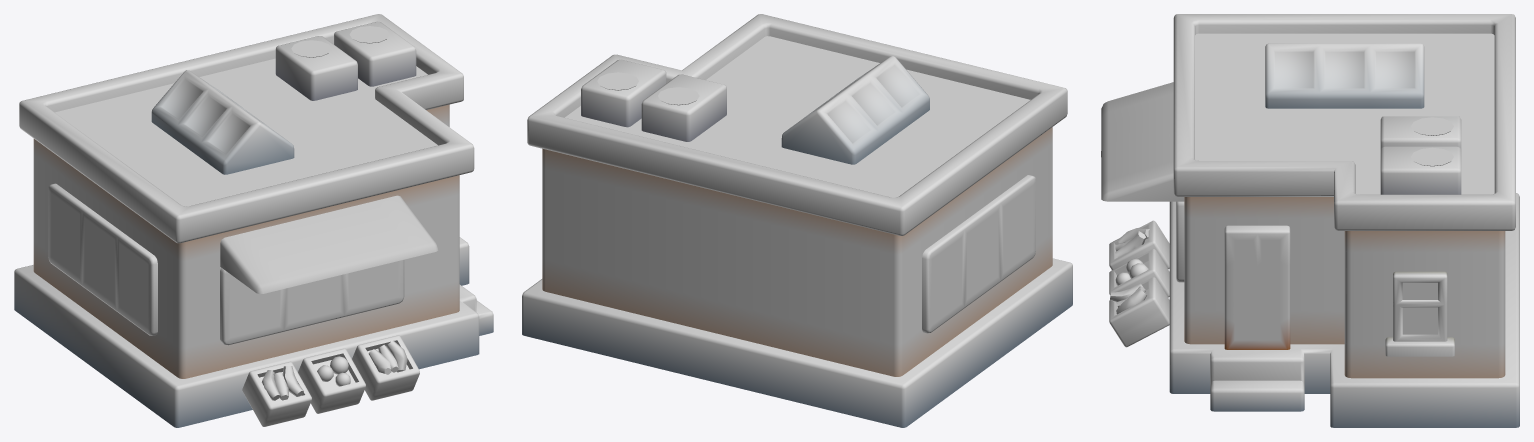
File: NF_Bld_Shop 06.fbx
3 views of the same model, side by side, from view 1: azimuth 30°, elevation 25°; view 2: azimuth 150°, elevation 25°; view 3: azimuth 270°, elevation 25° (orthographic). The views are drawn at different scales.
Visible parts, largest first — view 1: Shop_6; view 2: Shop_6; view 3: Shop_6.
Part boxes in pixels (x1,y1,x2,y2): Shop_6: (14, 14, 493, 427); Shop_6: (522, 14, 1072, 427); Shop_6: (1101, 14, 1519, 427).
Size of the model in its own units: 8.61 by 5.34 by 7.83.
